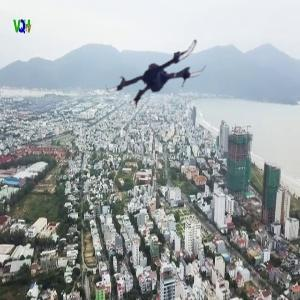drone: (105, 18, 206, 119)
